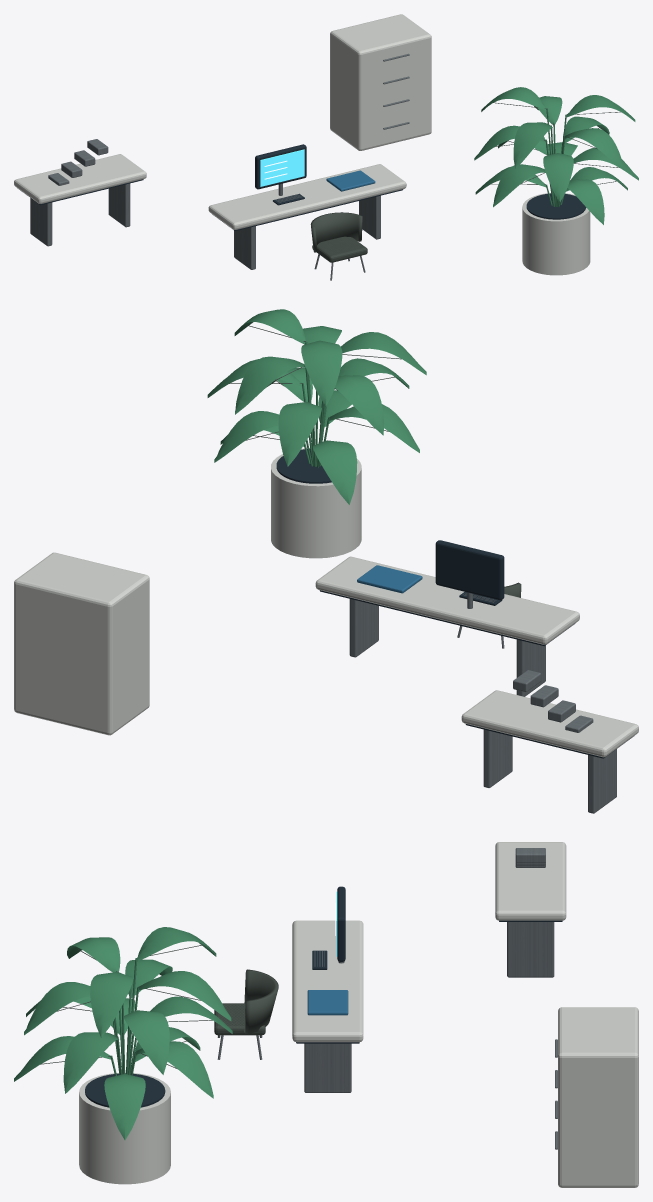
The model's file is founder.glb.
The picture shows the model from 3 angles, top to bottom: view 1: azimuth 30°, elevation 25°; view 2: azimuth 150°, elevation 25°; view 3: azimuth 270°, elevation 25°; orthographic projection. The views are drawn at different scales.
Parts seen in each view (by area): view 1: Static_founder; view 2: Static_founder; view 3: Static_founder.
Boxes of the visible parts, bbox=[...] form: Static_founder: bbox=[14, 14, 638, 280]; Static_founder: bbox=[14, 309, 638, 813]; Static_founder: bbox=[14, 842, 638, 1187].
Size of the model in its own units: 10.4 by 3.59 by 9.24.
Materials: 8 (2 with a texture image).
